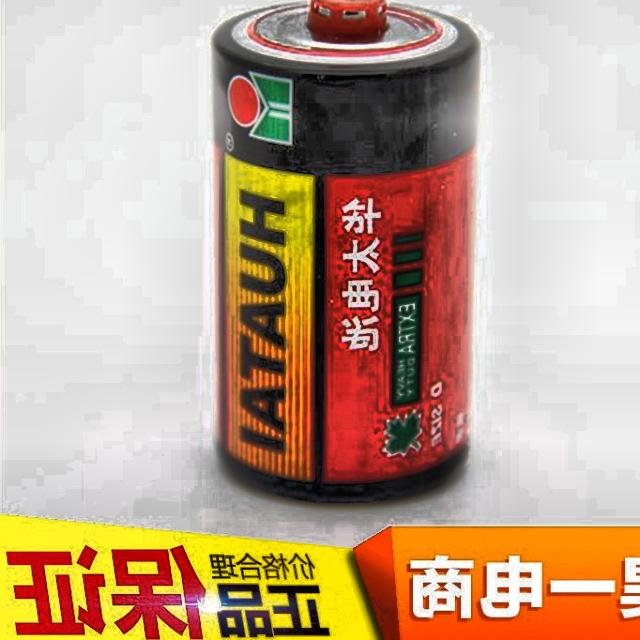Non-Valuable Waste - Batteries: (213, 0, 477, 502)
